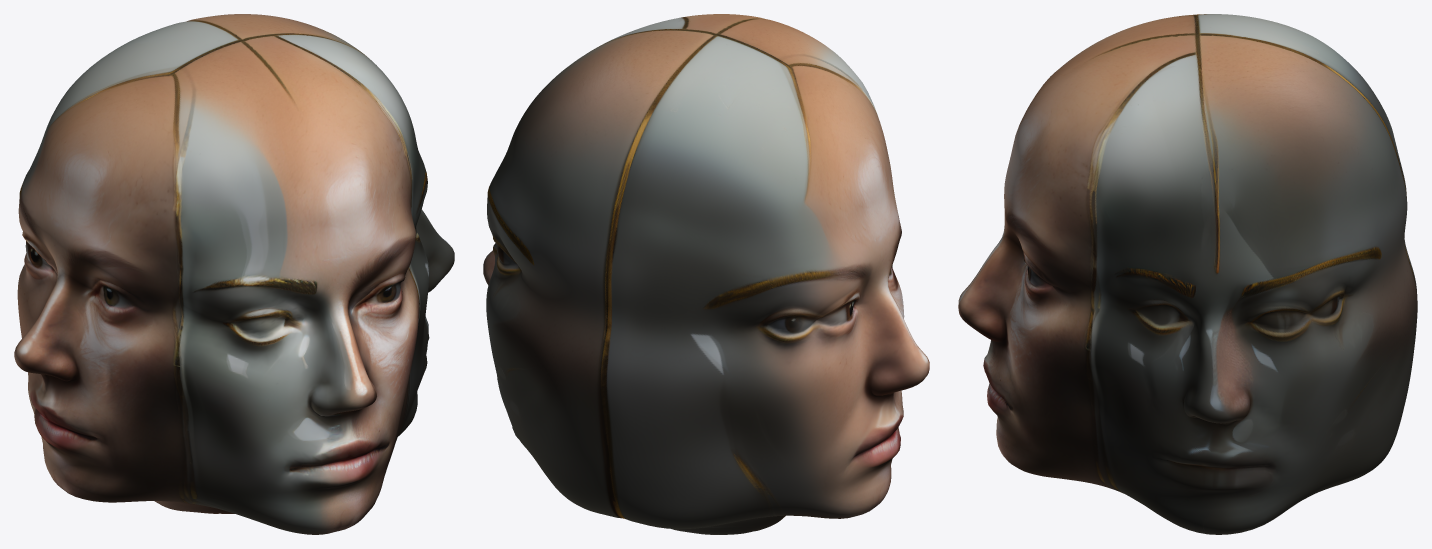
File: hero.glb
The picture shows the model from 3 angles, left to right: view 1: azimuth 30°, elevation 25°; view 2: azimuth 150°, elevation 25°; view 3: azimuth 270°, elevation 25°; orthographic projection.
Parts seen in each view (by area): view 1: model; view 2: model; view 3: model.
Part boxes in pixels (x1,y1,x2,y2): model: [14, 14, 454, 534]; model: [483, 14, 929, 534]; model: [958, 14, 1417, 534].
Size of the model in its own units: 1.71 by 1.71 by 1.57.
Materials: 1 (1 with a texture image).
